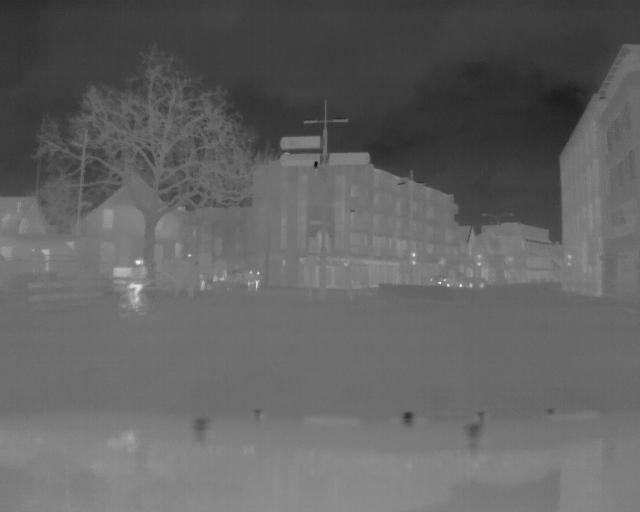person: (121, 253, 151, 311)
